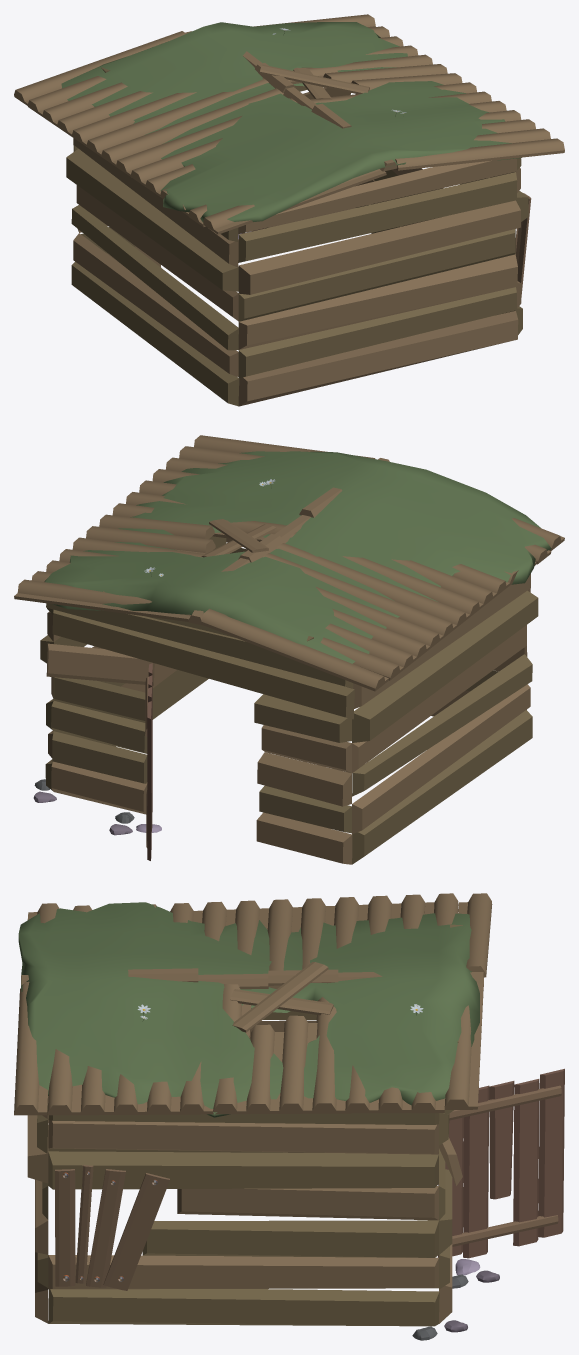
File: P_Shed_LD.fbx
3 views of the same model, one above another, from view 1: azimuth 30°, elevation 25°; view 2: azimuth 150°, elevation 25°; view 3: azimuth 270°, elevation 25° (orthographic). The views are drawn at different scales.
Parts seen in each view (by area): view 1: P_Shed; view 2: P_Shed; view 3: P_Shed.
Boxes of the visible parts, x1,y1,x2,y2 form: P_Shed: [14, 14, 564, 406]; P_Shed: [14, 435, 564, 864]; P_Shed: [14, 893, 564, 1340].
Size of the model in its own units: 506 by 310 by 554.
1 material, 1 textured.
